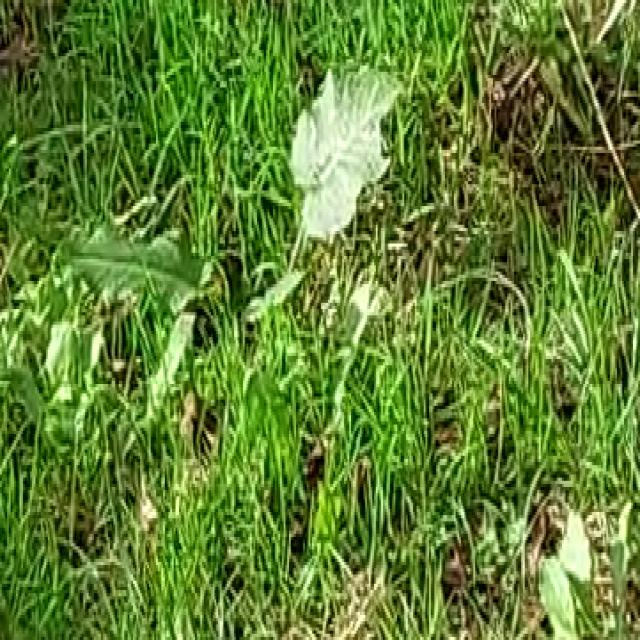organic waste: (68, 68, 450, 400)
